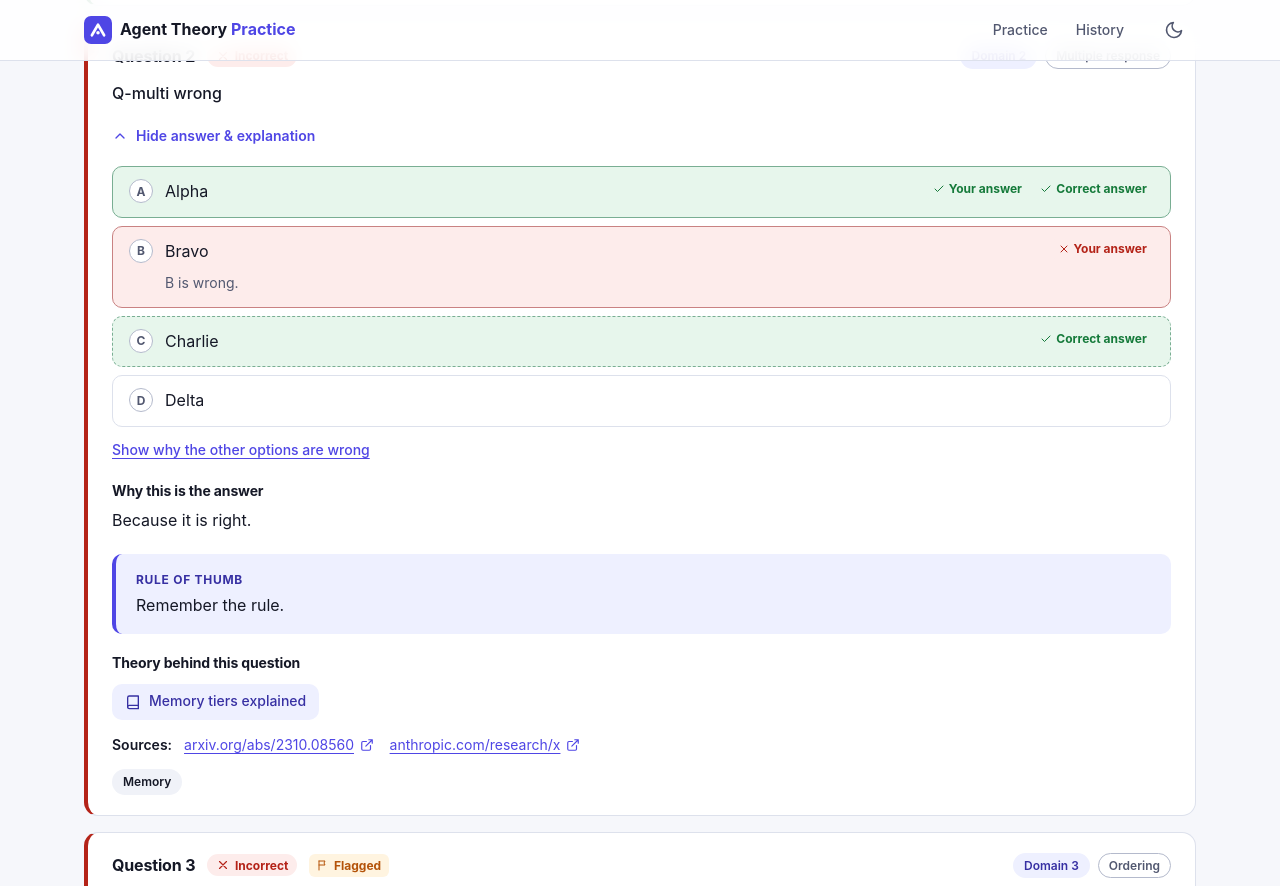
Test: ReviewPage › compares choice answers: your pick, the correct answer, and why your pick is wrong
The image size is (1280, 886).
(page scrolled)
Expected: the list item "A Alpha Your answer Correct answer" is shown, [112,166,1171,218]
Expected: the list item "B Bravo Your answer B is wrong." is shown, [112,226,1171,308]
Click the button "Show why the other options are wrong" at (241, 450), box [112,439,370,461]
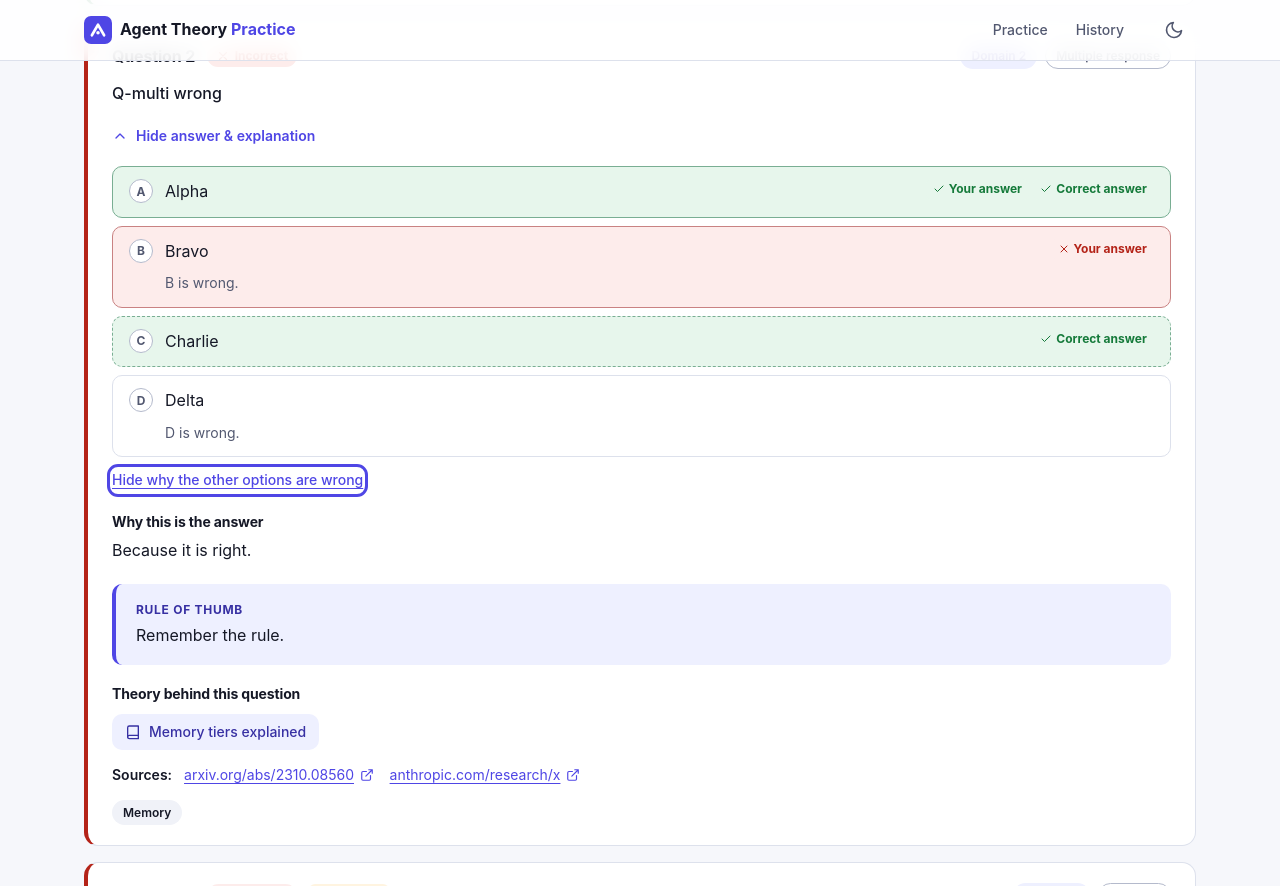
Expected: the element that starts with "Question" shows "Because it is right.", [112,540,251,560]
Result: the element that starts with "Question" shows "D is wrong." at [165,424,240,441]
